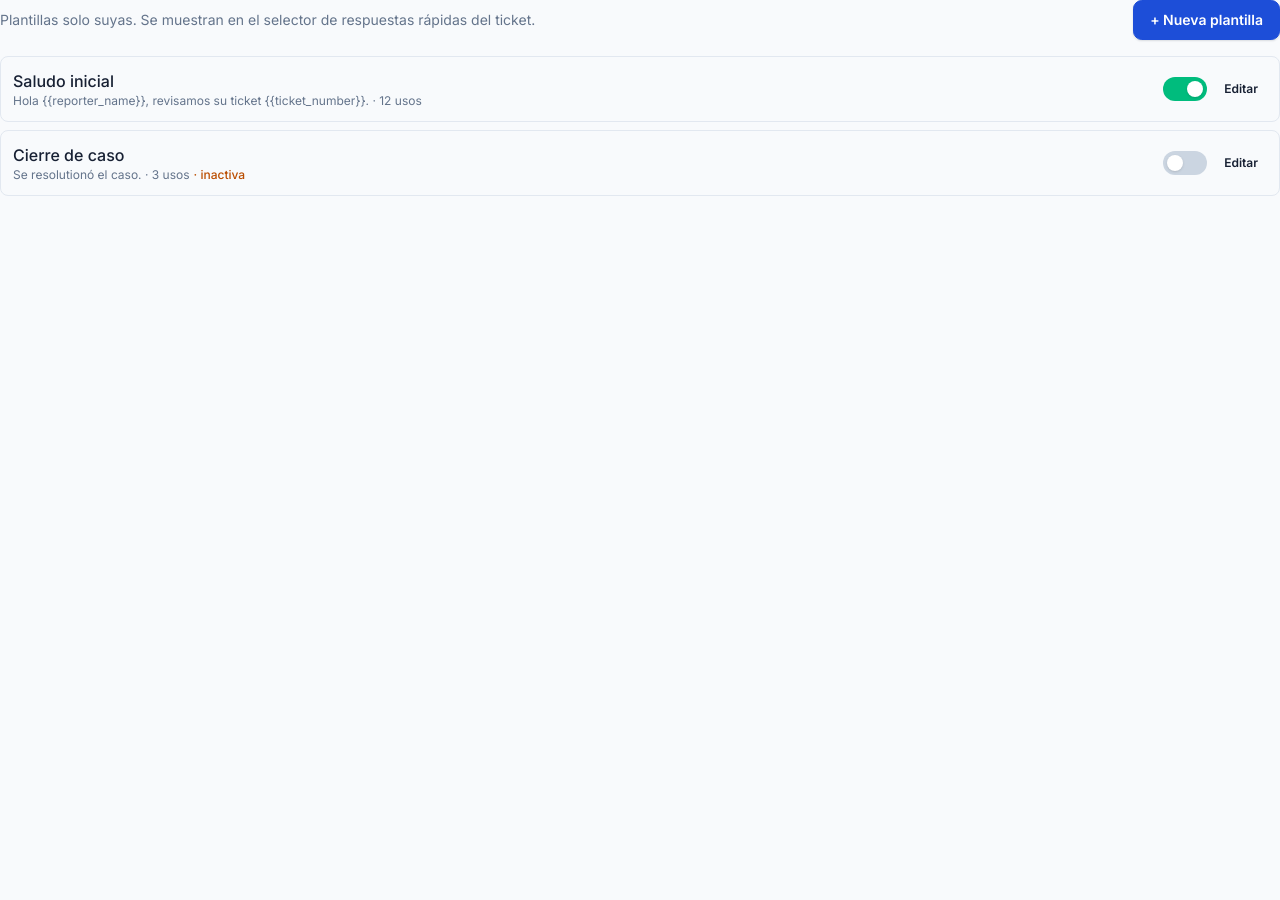
Scenario: MyTemplates · creación y edición › crea una plantilla y cierra el modal al guardar bien
Expected: the text "Saludo inicial" is shown, top-left (13, 71), bottom-right (114, 91)
Click the button "+ Nueva plantilla" at (1207, 20), box top-left (1133, 0), bottom-right (1279, 40)
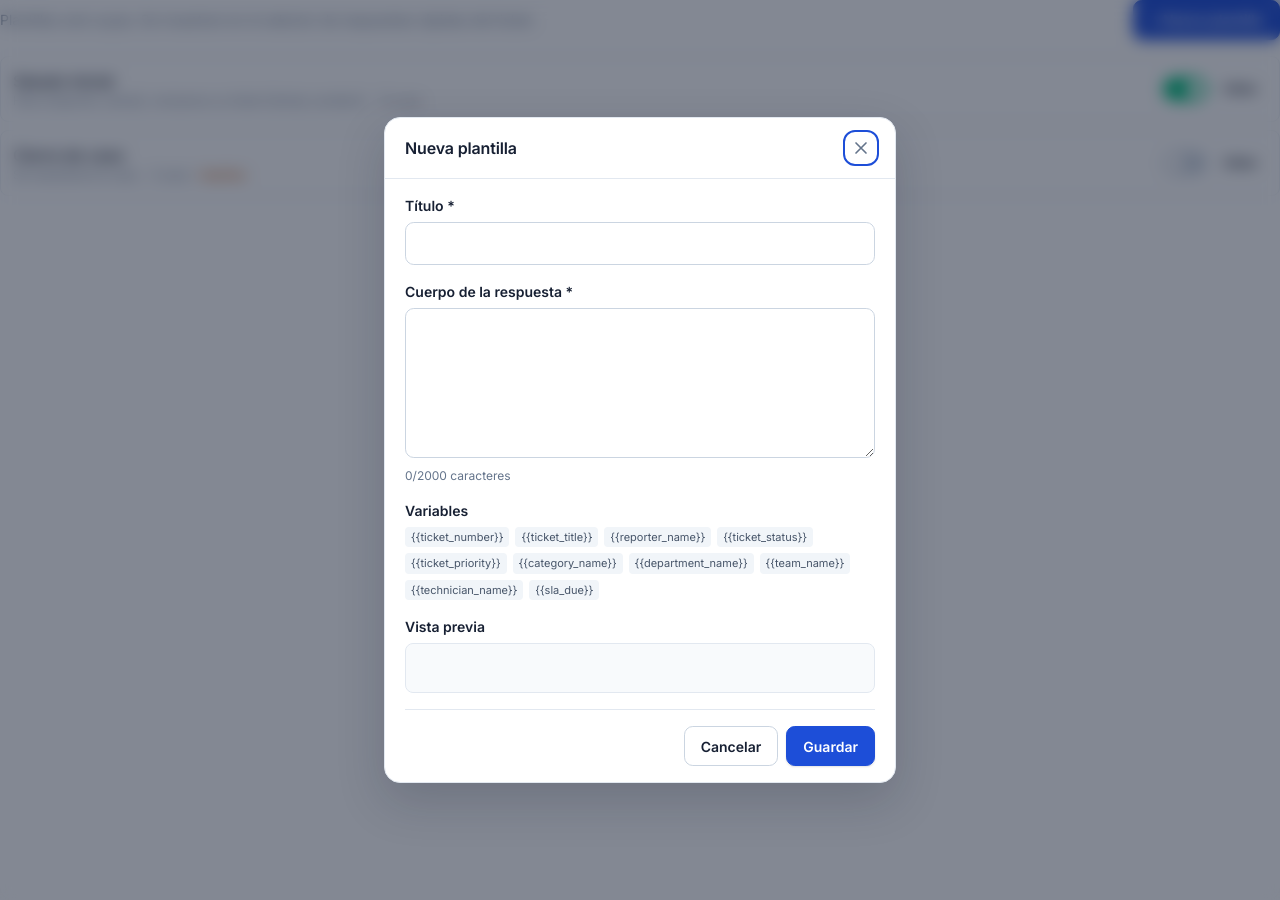
Type "Confirmación" into the field labelled "Título *" at (640, 243), box top-left (405, 222), bottom-right (875, 265)
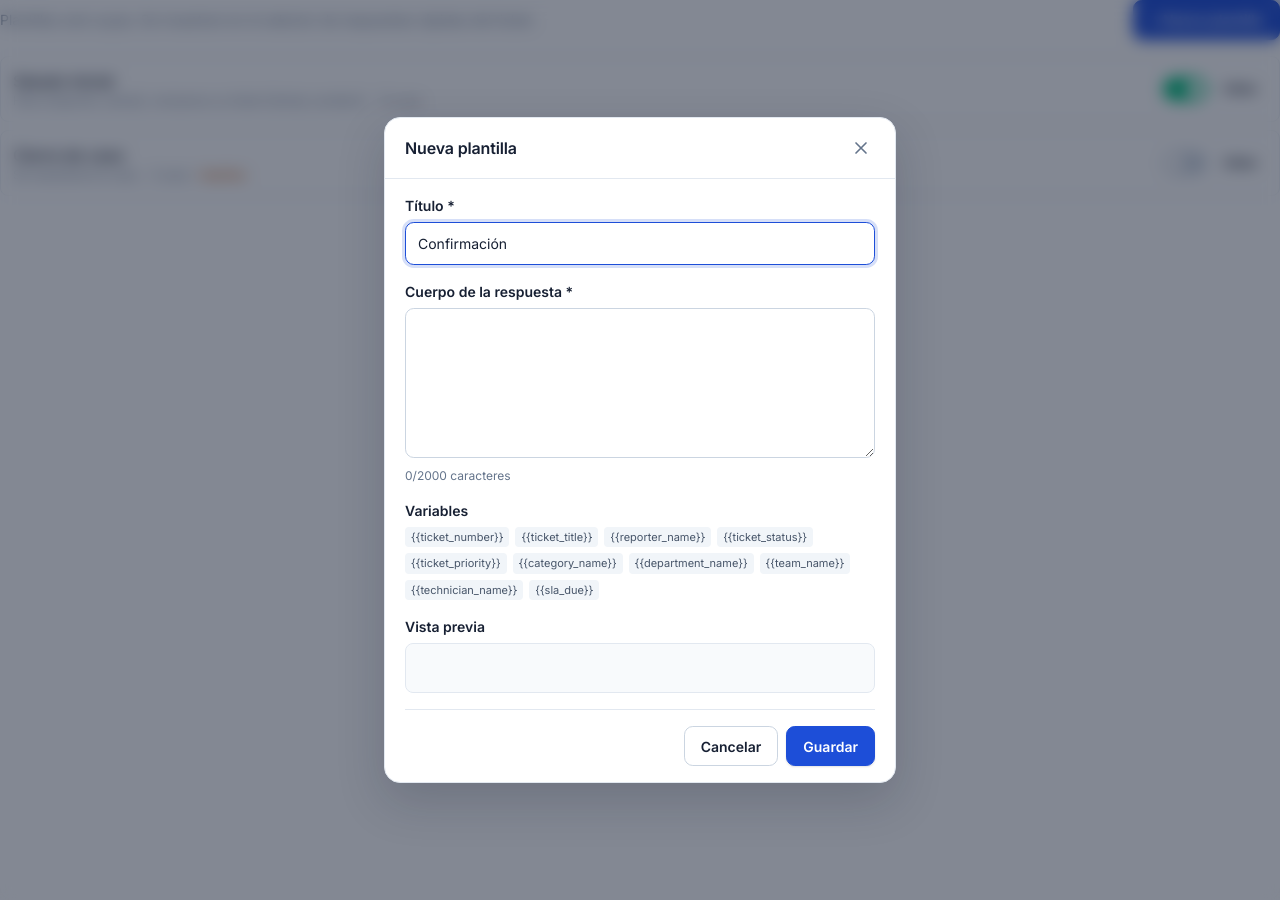
Type "Confirmado." into the text box labelled "Cuerpo de la respuesta *" at (640, 383), box top-left (405, 308), bottom-right (875, 458)
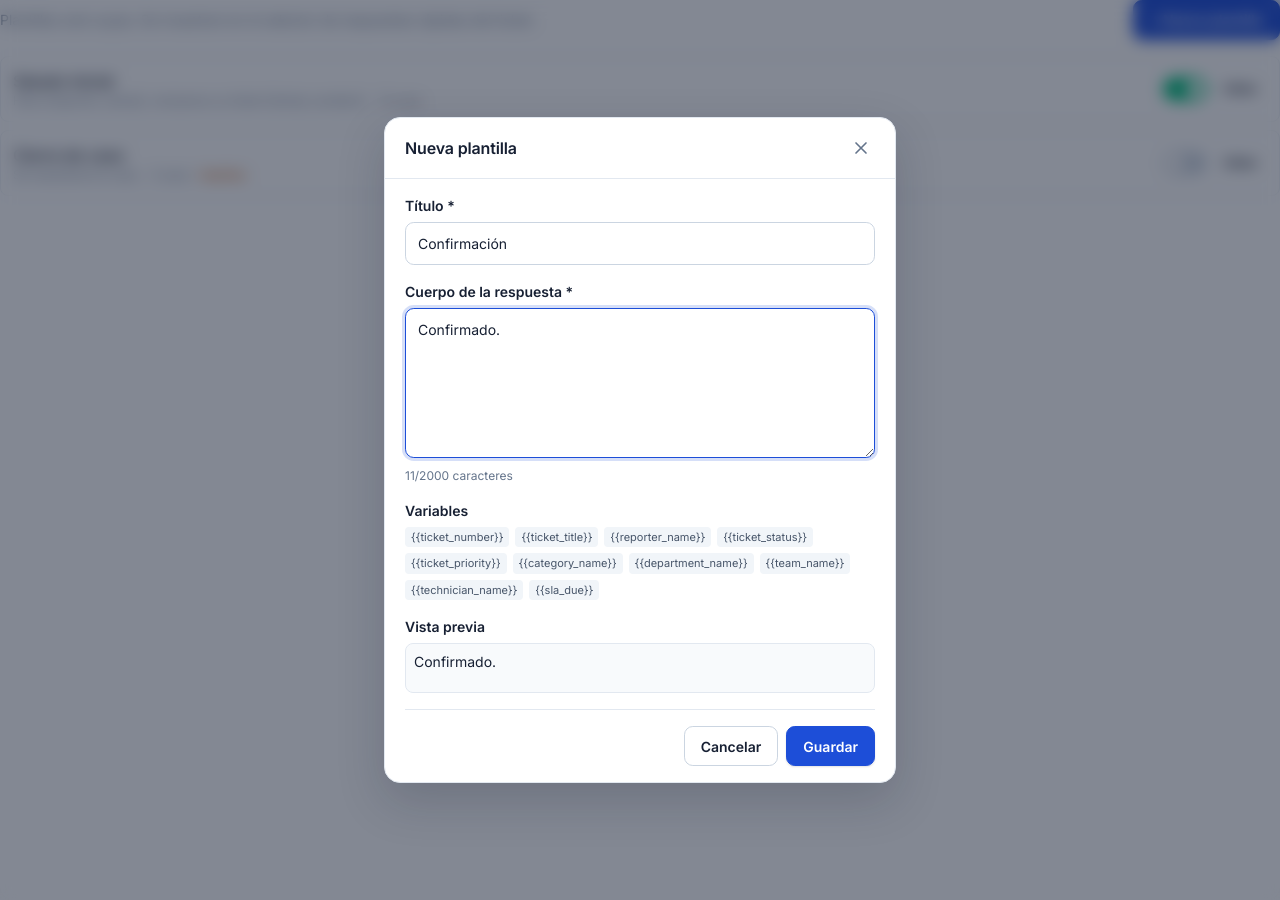
Click the button "Guardar" at (831, 746), box top-left (786, 726), bottom-right (875, 766)
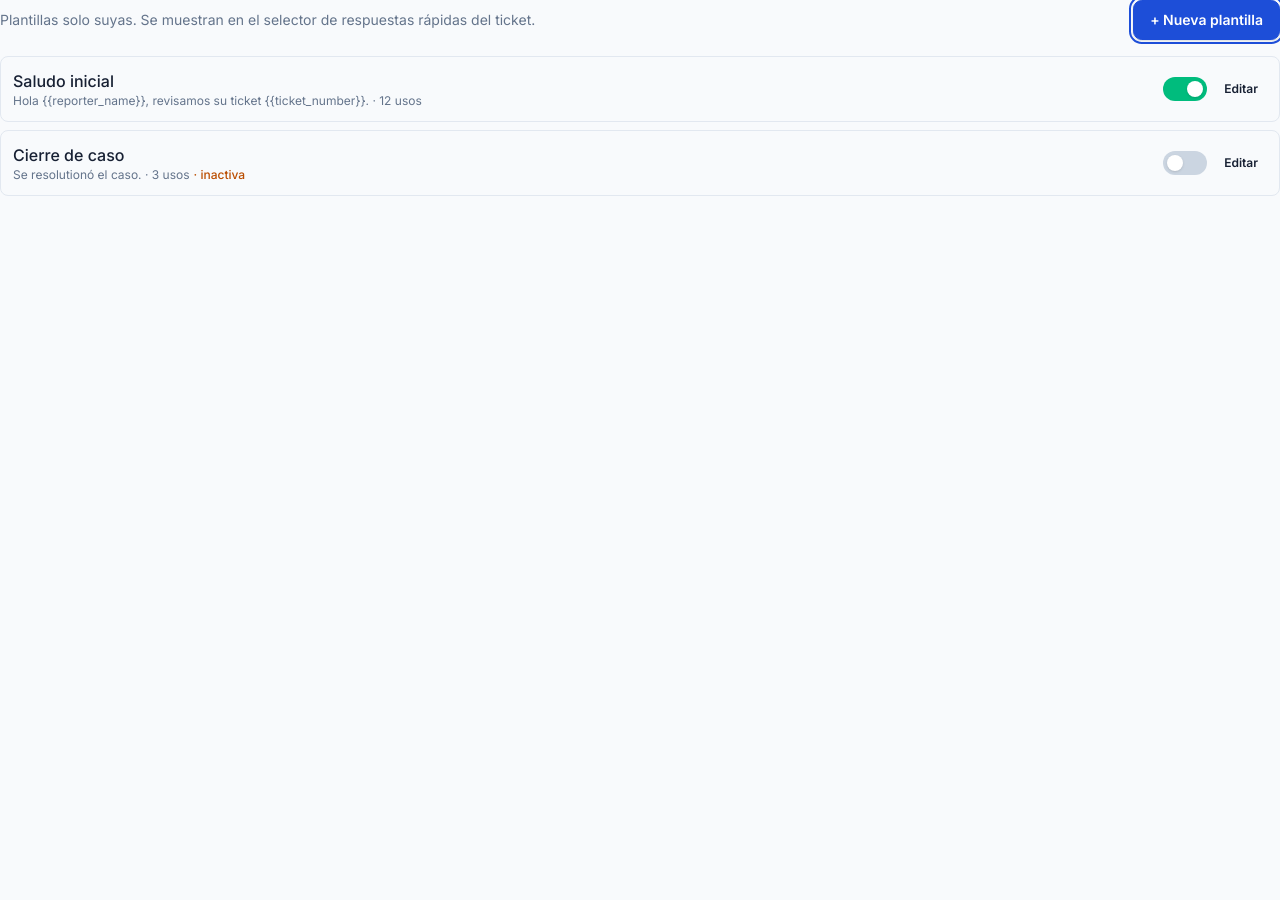
Now the dialog is gone
